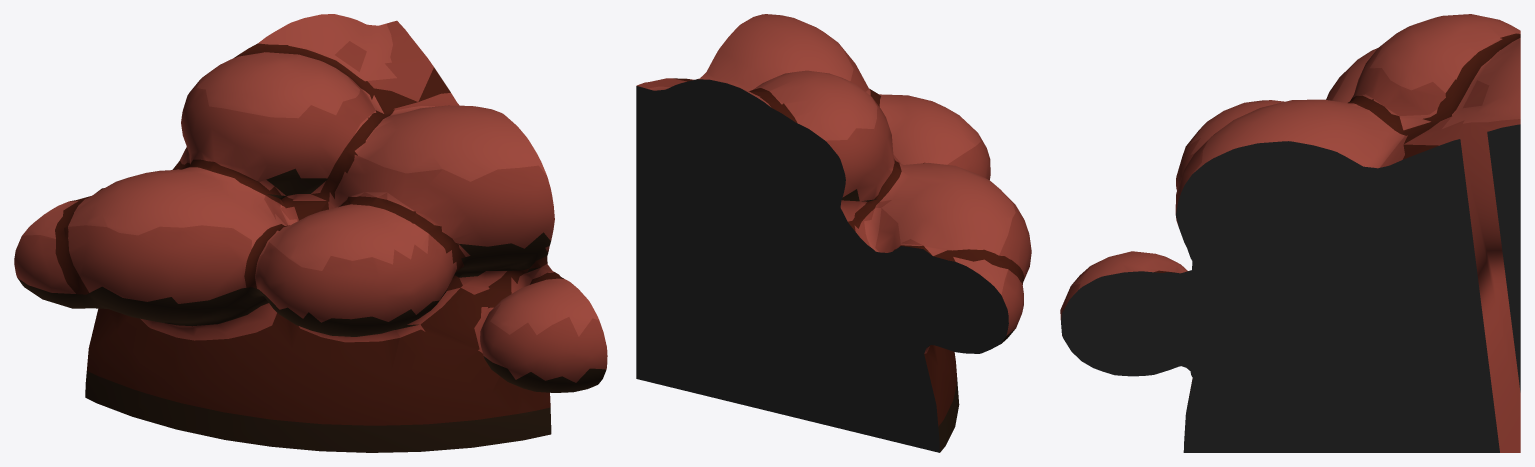
Rendered from miners_ore_bl.glb.
3 renders of one model, left to right at view 1: azimuth 30°, elevation 25°; view 2: azimuth 150°, elevation 25°; view 3: azimuth 270°, elevation 25°, orthographic. The views are drawn at different scales.
Parts seen in each view (by area): view 1: ore.001; view 2: ore.001; view 3: ore.001.
Boxes of the visible parts, bbox=[...] form: ore.001: bbox=[14, 14, 607, 452]; ore.001: bbox=[636, 14, 1031, 452]; ore.001: bbox=[1060, 14, 1520, 452].
Bounding box in the file's own units: 15.11 × 12.3 × 14.41.
